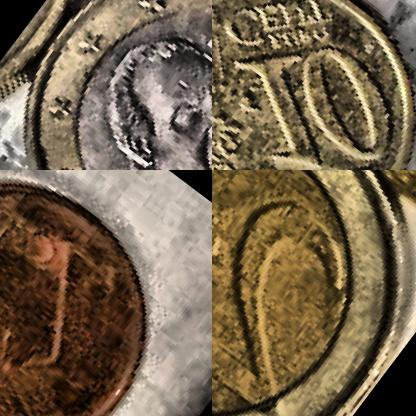coin: (0, 170, 203, 415), (212, 170, 415, 415), (0, 0, 211, 169), (212, 0, 415, 169)
